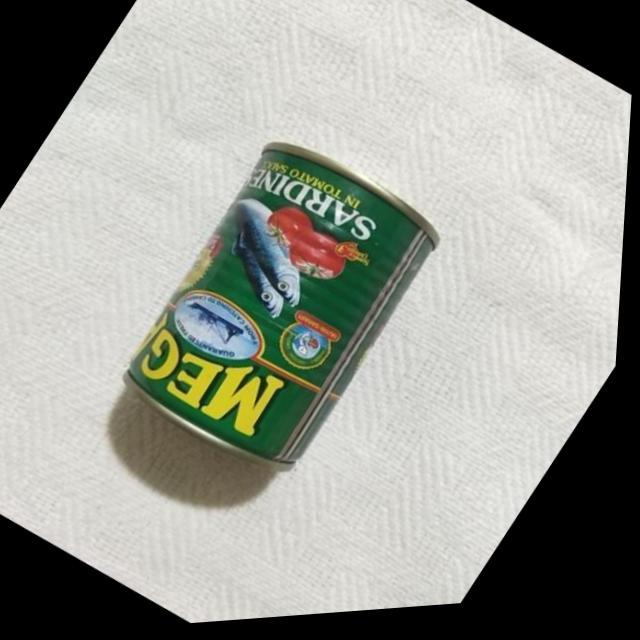metal: (129, 143, 437, 461)
